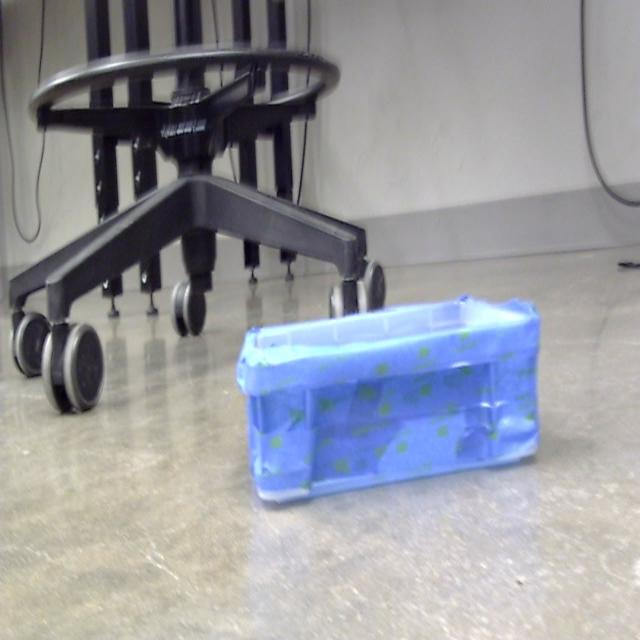bucket: (234, 295, 542, 510)
